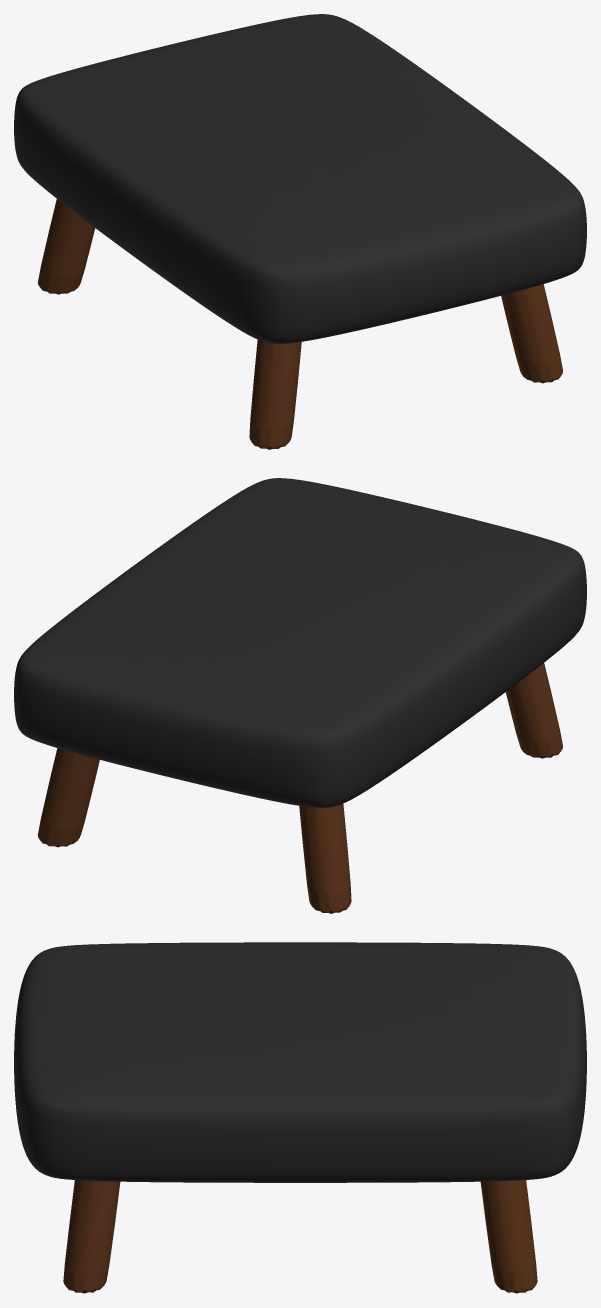
Rendered from minisofafoot.gltf.
The picture shows the model from 3 angles, top to bottom: view 1: azimuth 30°, elevation 25°; view 2: azimuth 150°, elevation 25°; view 3: azimuth 270°, elevation 25°; orthographic projection. The views are drawn at different scales.
Visible parts, largest first — view 1: minisofa foot, minisofa foot leg; view 2: minisofa foot, minisofa foot leg; view 3: minisofa foot, minisofa foot leg.
Part boxes in pixels (x1,y1,x2,y2): minisofa foot: (14, 14, 586, 343); minisofa foot leg: (38, 199, 562, 449); minisofa foot: (14, 478, 586, 807); minisofa foot leg: (38, 663, 562, 913); minisofa foot: (14, 942, 586, 1182); minisofa foot leg: (63, 1180, 537, 1293).
Size of the model in its own units: 1.39 by 0.7447 by 1.92.
